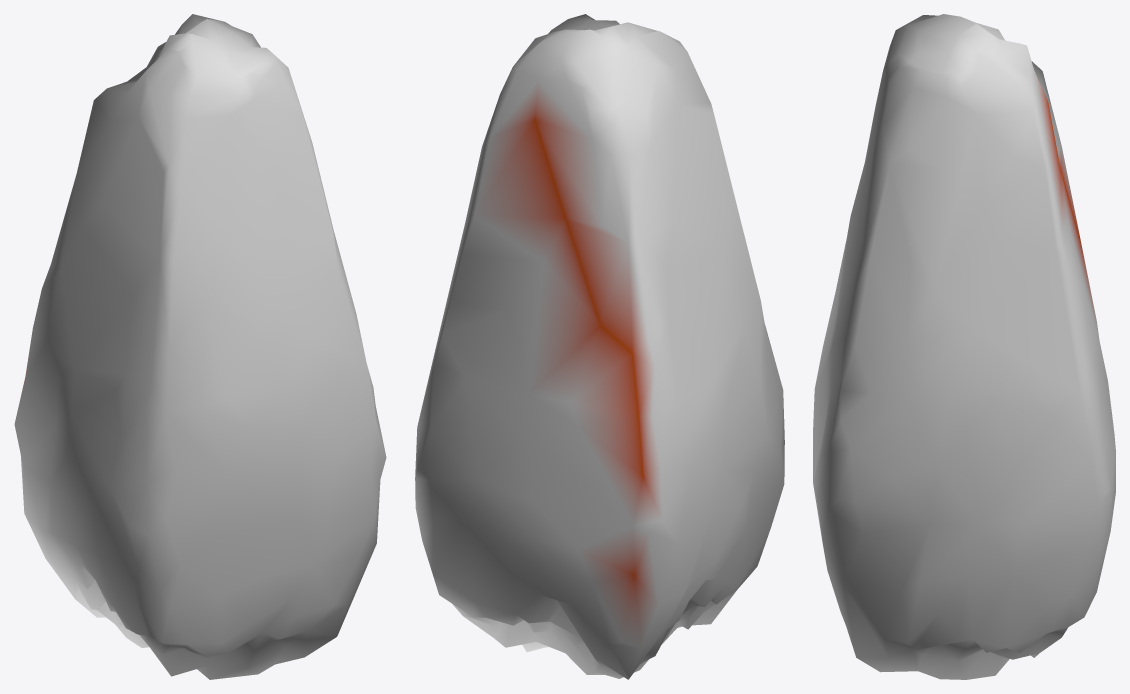
The model's file is SM_Ammo Rock.fbx.
The picture shows the model from 3 angles, left to right: view 1: azimuth 30°, elevation 25°; view 2: azimuth 150°, elevation 25°; view 3: azimuth 270°, elevation 25°; orthographic projection.
Parts seen in each view (by area): view 1: Ammo Rock; view 2: Ammo Rock; view 3: Ammo Rock.
Boxes of the visible parts, bbox=[...] form: Ammo Rock: bbox=[14, 14, 386, 679]; Ammo Rock: bbox=[415, 14, 784, 679]; Ammo Rock: bbox=[813, 14, 1115, 679].
Bounding box in the file's own units: 140 × 321 × 139.
